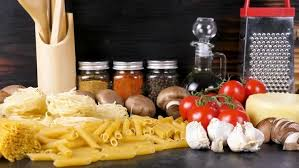Onion: (207, 122, 262, 149)
Tomato: (189, 94, 243, 117)
